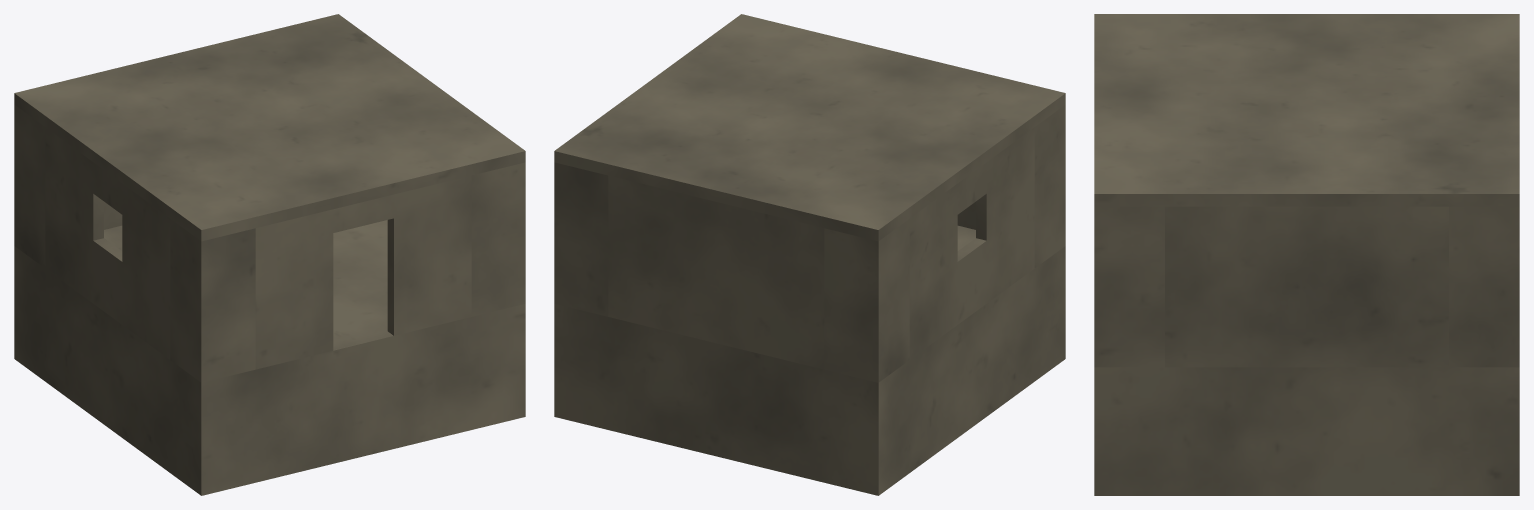
Rendered from House1.fbx.
3 renders of one model, left to right at view 1: azimuth 30°, elevation 25°; view 2: azimuth 150°, elevation 25°; view 3: azimuth 270°, elevation 25°, orthographic. The views are drawn at different scales.
Parts seen in each view (by area): view 1: Cube.033; view 2: Cube.033; view 3: Cube.033.
Boxes of the visible parts, box(x1,y1,x2,y2) form: Cube.033: box(14, 14, 525, 495); Cube.033: box(554, 14, 1065, 495); Cube.033: box(1094, 14, 1519, 495).
Size of the model in its own units: 600 by 470 by 600.
